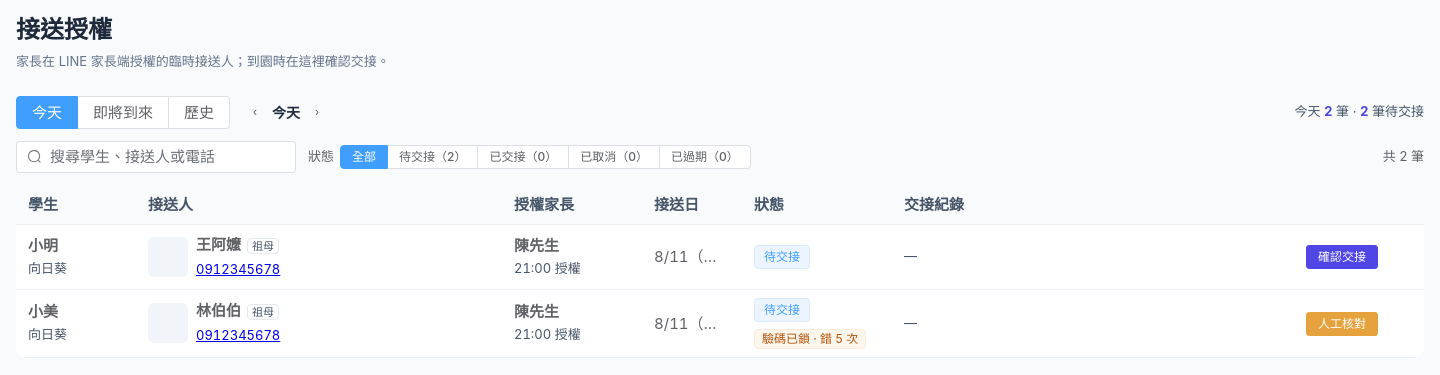
Test: PickupAuthorizationsView (admin) › 搜尋接送人姓名可過濾表格列（前端過濾，不重打 API）
Type "王阿嬤" into the field with placeholder "搜尋學生、接送人或電話" at (168, 156), box [50,142,285,172]
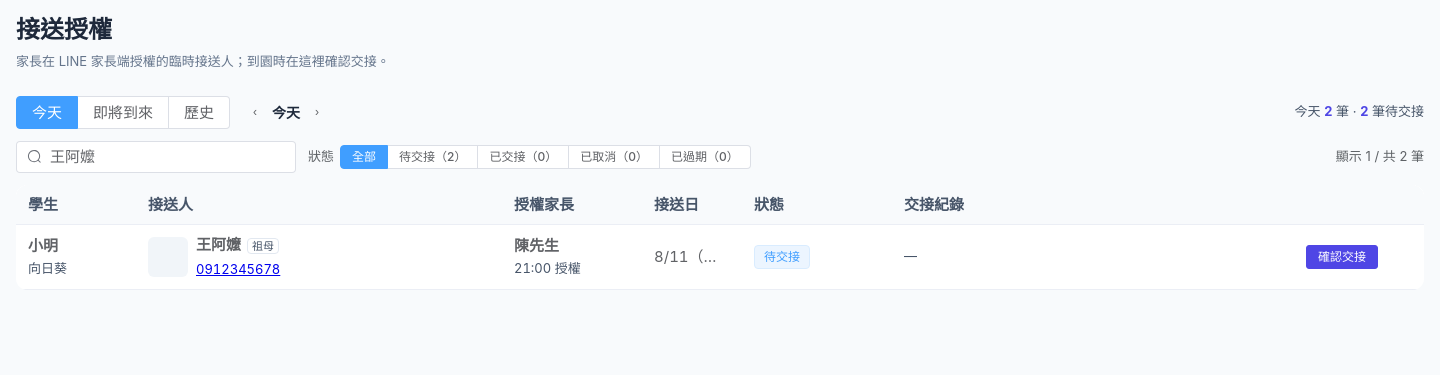
Result: the text "林伯伯" is gone
